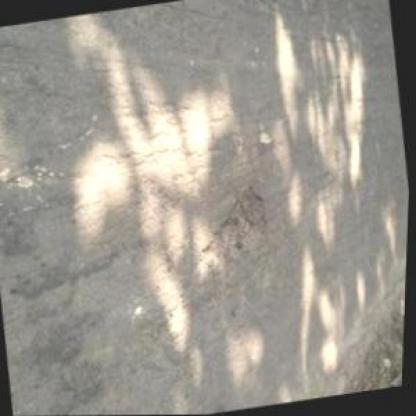pothole: (186, 183, 277, 269), (292, 0, 322, 18)
